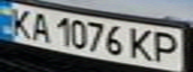0: (66, 17, 87, 51)
1: (51, 15, 72, 47)
6: (103, 23, 130, 57)
7: (84, 19, 106, 53)
A: (24, 10, 54, 43)
K: (124, 26, 157, 63), (3, 4, 36, 38)
P: (148, 29, 187, 65)
